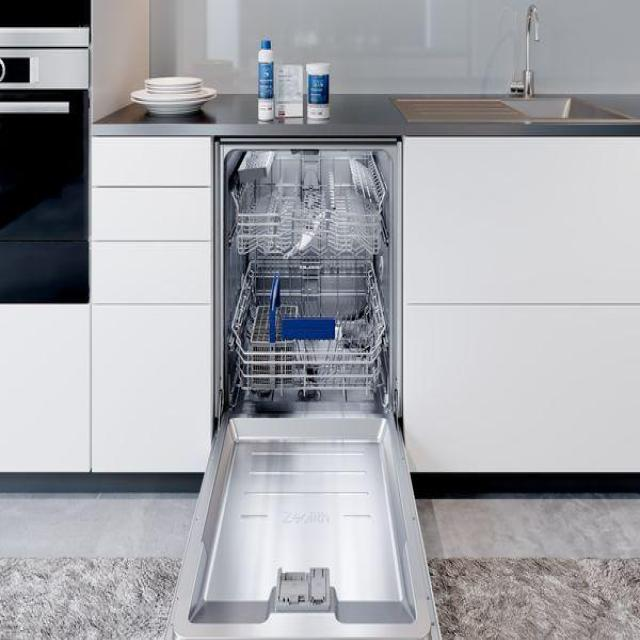dishwasher: (169, 128, 445, 640)
